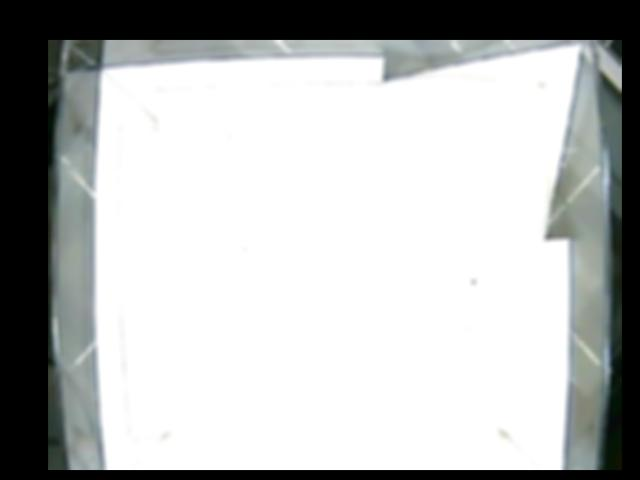Bottle: (292, 247, 364, 315)
